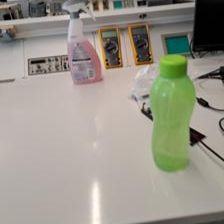bottle: (149, 51, 197, 171)
